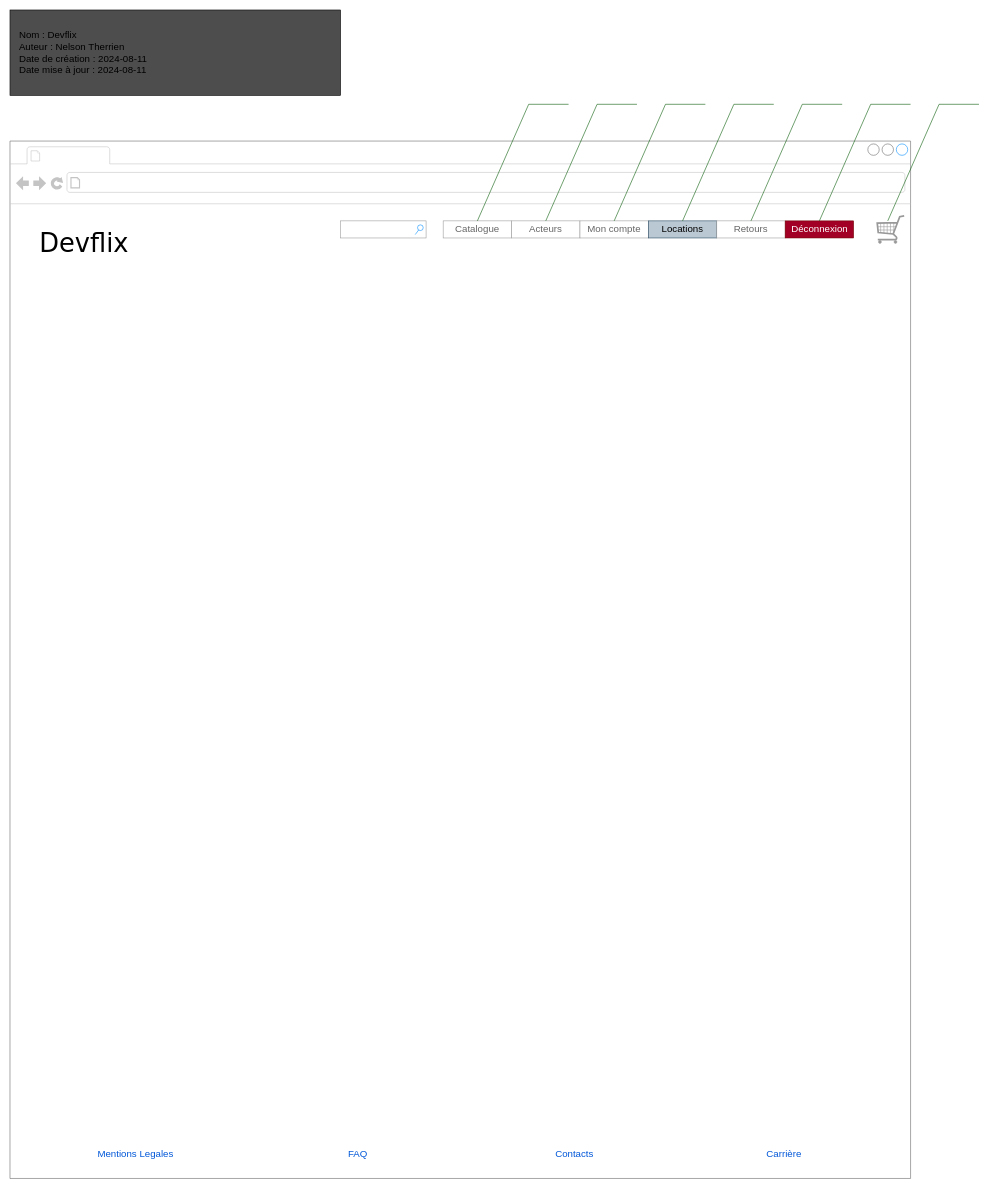
This 989x1188 diagram has some shape labels left out. Here are the shapes that lost their labels. From the top down, the centre of each, then its label:
At point 75,155: "Page 1".
At point 181,182: "https://www.devflix.com/acteur/:id_acteur".
At point 383,229: "Rechercher".
